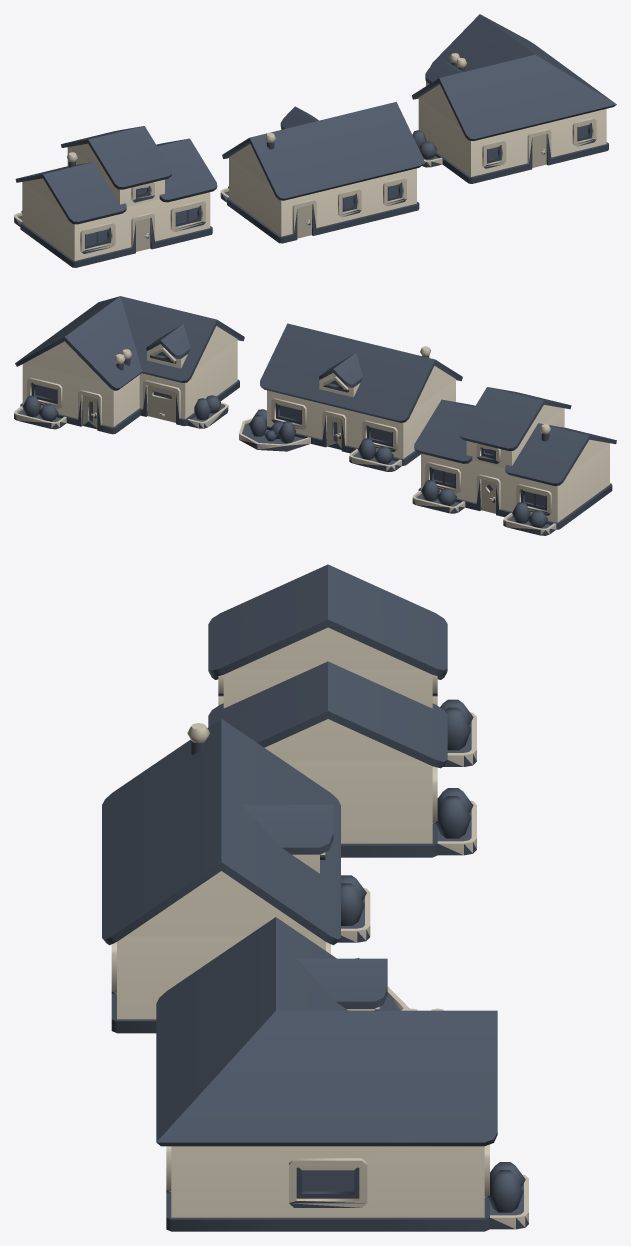
File: street.glb
3 views of the same model, one above another, from view 1: azimuth 30°, elevation 25°; view 2: azimuth 150°, elevation 25°; view 3: azimuth 270°, elevation 25° (orthographic). The views are drawn at different scales.
Parts seen in each view (by area): view 1: house-m, house-g, house-a; view 2: house-m, house-a, house-g; view 3: house-m, house-a, house-g.
Part boxes in pixels (box(x1,y1,x2,y2)): house-m: box(412, 14, 616, 183); house-g: box(220, 102, 423, 243); house-a: box(14, 126, 217, 267); house-m: box(14, 296, 244, 434); house-a: box(412, 387, 616, 535); house-g: box(239, 323, 462, 471); house-m: box(156, 917, 528, 1231); house-a: box(208, 564, 476, 857); house-g: box(102, 718, 409, 1033).
Bounding box in the file's own units: 28.18 × 5 × 9.82.
